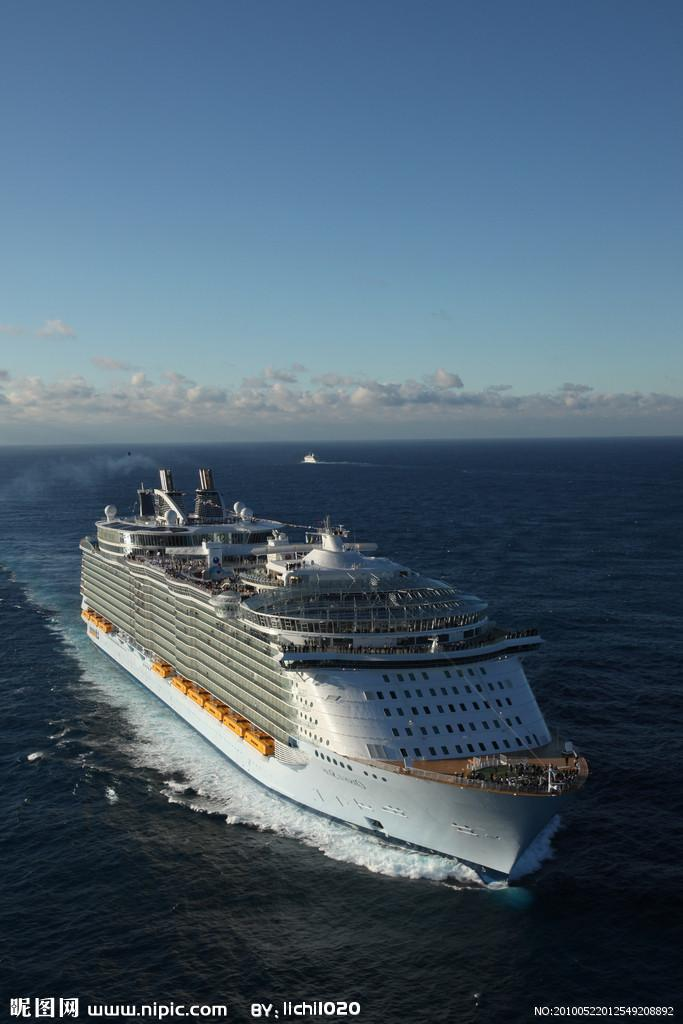youlun: (76, 454, 598, 883)
